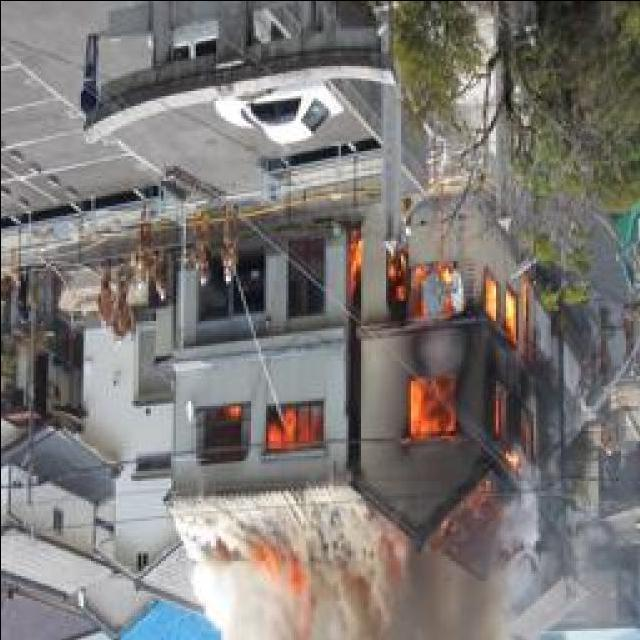Fire: (338, 228, 550, 497), (243, 543, 353, 631), (195, 398, 332, 444)
